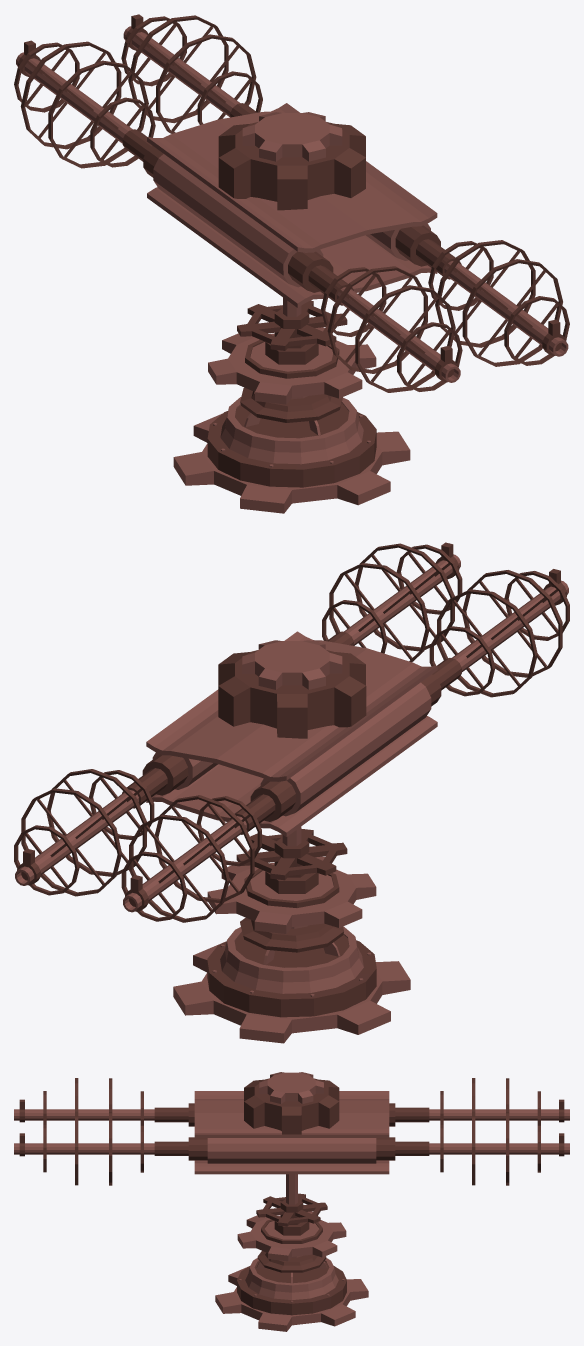
The model's file is laser-quad.glb.
3 renders of one model, top to bottom at view 1: azimuth 30°, elevation 25°; view 2: azimuth 150°, elevation 25°; view 3: azimuth 270°, elevation 25°, orthographic. The views are drawn at different scales.
Parts seen in each view (by area): view 1: Laser_Quad_Gun, Laser_Quad_Base, Laser_Quad_Mid; view 2: Laser_Quad_Gun, Laser_Quad_Base, Laser_Quad_Mid; view 3: Laser_Quad_Gun, Laser_Quad_Base, Laser_Quad_Mid.
Part boxes in pixels (bbox=[...]): Laser_Quad_Gun: bbox=[14, 14, 569, 392]; Laser_Quad_Base: bbox=[173, 335, 410, 513]; Laser_Quad_Mid: bbox=[208, 297, 376, 404]; Laser_Quad_Gun: bbox=[14, 542, 569, 922]; Laser_Quad_Base: bbox=[173, 868, 410, 1043]; Laser_Quad_Mid: bbox=[207, 827, 376, 933]; Laser_Quad_Gun: bbox=[14, 1072, 569, 1185]; Laser_Quad_Base: bbox=[215, 1216, 368, 1331]; Laser_Quad_Mid: bbox=[237, 1174, 346, 1261].
Size of the model in its own units: 1.39 by 2.16 by 5.
